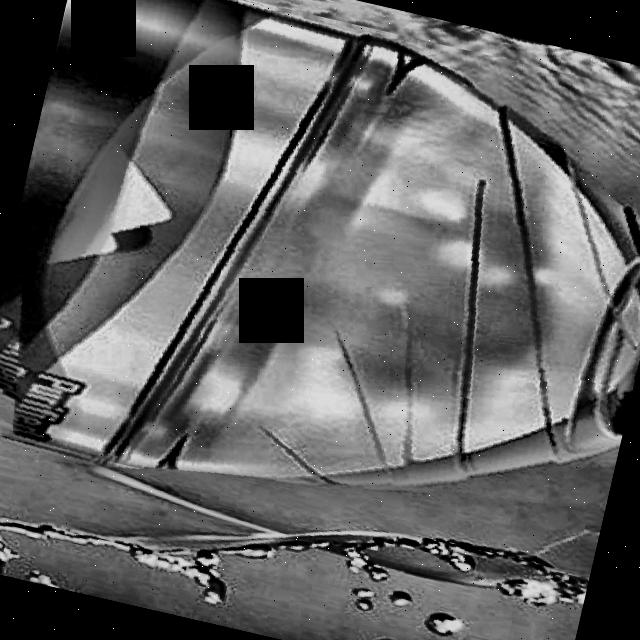bottle: (0, 8, 640, 491), (9, 0, 640, 484)
